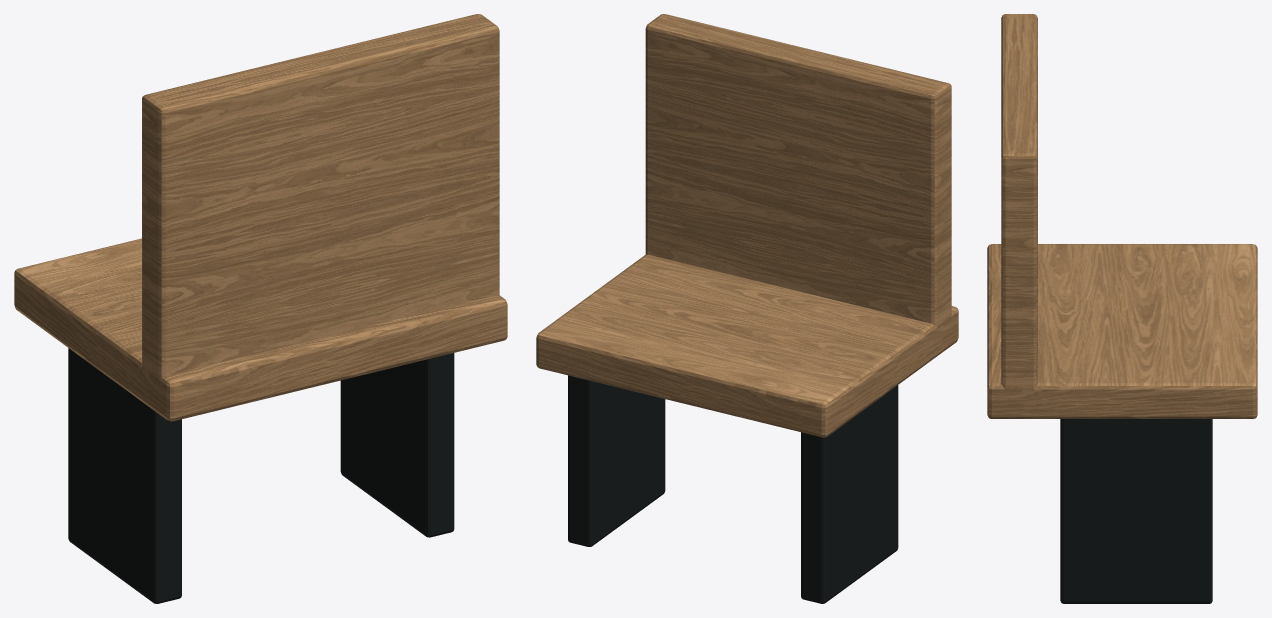
File: hiperreal.glb
The picture shows the model from 3 angles, left to right: view 1: azimuth 30°, elevation 25°; view 2: azimuth 150°, elevation 25°; view 3: azimuth 270°, elevation 25°; orthographic projection. The views are drawn at different scales.
Visible parts, largest first — view 1: starbucksChair_1, starbucksChair_0, starbucksChair_2, starbucksChair_3; view 2: starbucksChair_1, starbucksChair_0, starbucksChair_2, starbucksChair_3; view 3: starbucksChair_0, starbucksChair_3, starbucksChair_1.
Part boxes in pixels (box(x1,y1,x2,y2)): starbucksChair_1: box(142, 14, 499, 381); starbucksChair_0: box(14, 238, 507, 421); starbucksChair_2: box(68, 348, 181, 603); starbucksChair_3: box(340, 353, 454, 537); starbucksChair_1: box(645, 14, 951, 328); starbucksChair_0: box(536, 254, 958, 437); starbucksChair_2: box(801, 385, 898, 603); starbucksChair_3: box(568, 375, 665, 546); starbucksChair_0: box(987, 244, 1257, 418); starbucksChair_3: box(1060, 419, 1212, 603); starbucksChair_1: box(1001, 14, 1037, 391).
Bounding box in the file's own units: 0.6 × 0.89 × 0.48.
Materials: 2 (1 with a texture image).
